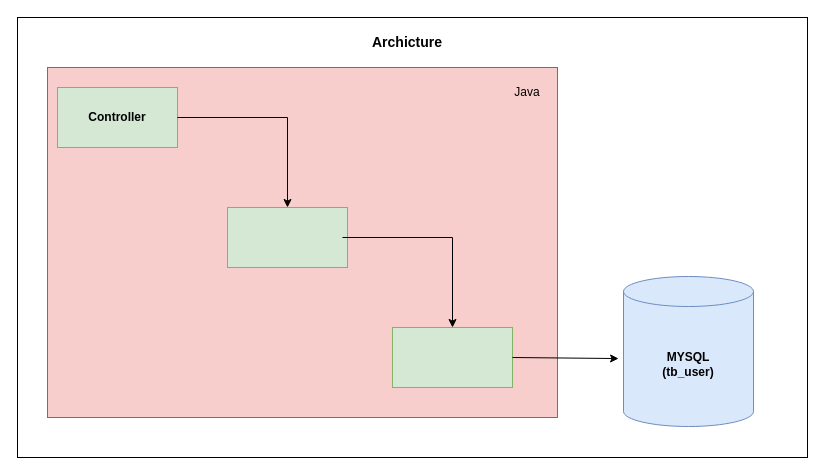
The diagram is 825 pixels wide and 475 high, and some of its shapes have lost their labels. The shapes that lost their labels are listed below. From the top down, each one's centre as x and y in pixels, then its label:
At [287,237]: "Service".
At [452,357]: "Repository".
